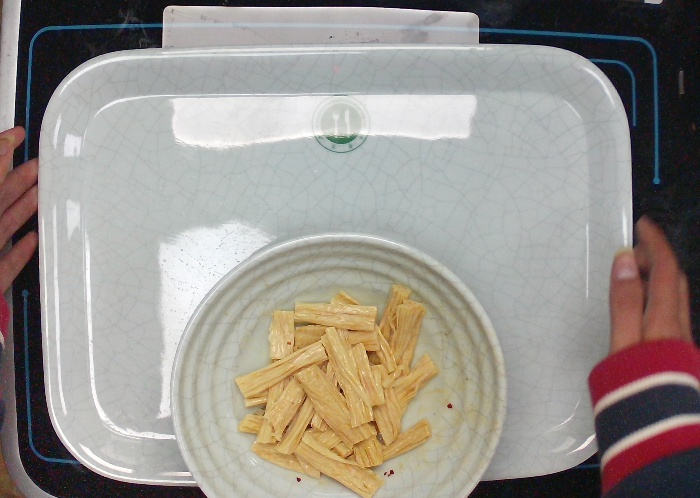JYsf-Da_Tang_Wan: (157, 227, 513, 498)
